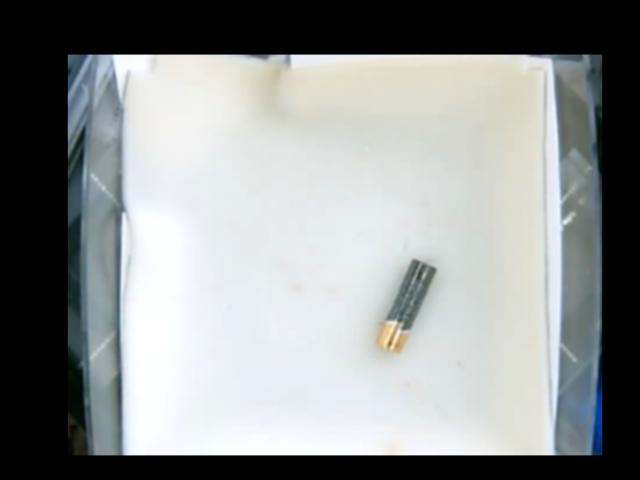Battery: (378, 256, 436, 354)
